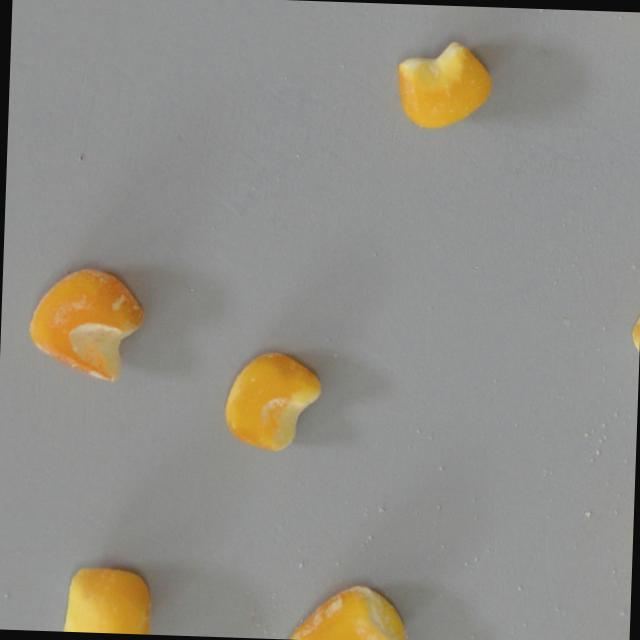no_canjicado: (223, 349, 322, 454), (394, 38, 493, 129), (61, 563, 153, 634)
pelicula: (25, 264, 147, 383), (286, 579, 410, 640)
